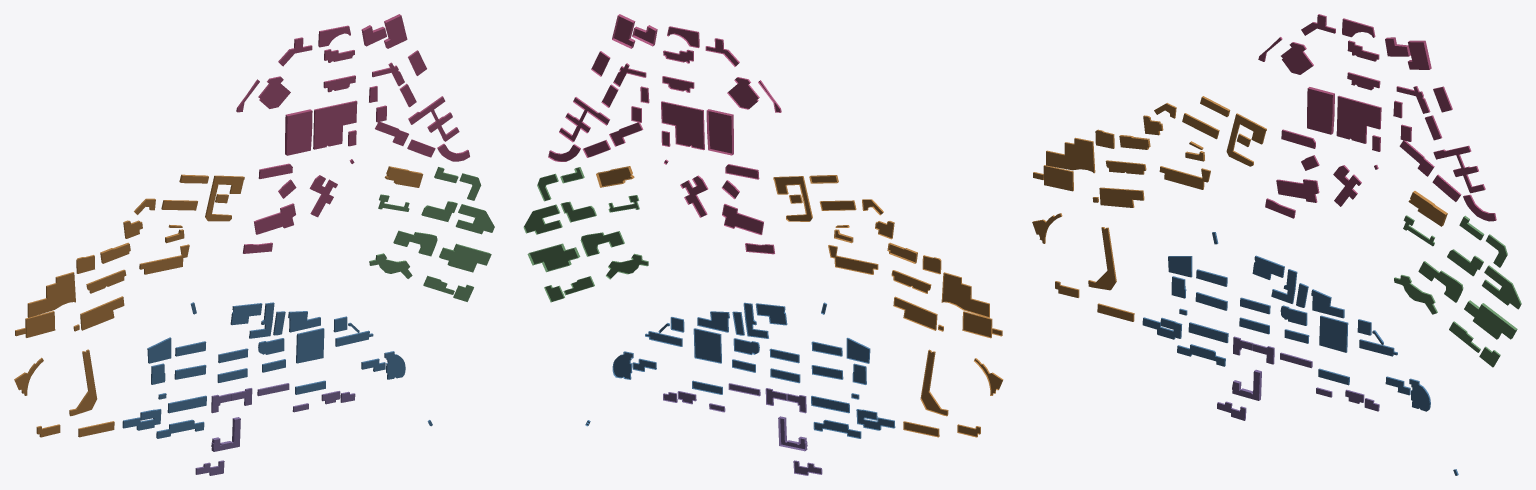
The model's file is buildings_k16.obj.
The picture shows the model from 3 angles, left to right: view 1: azimuth 30°, elevation 25°; view 2: azimuth 150°, elevation 25°; view 3: azimuth 330°, elevation 25°; orthographic projection. The views are drawn at different scales.
Parts seen in each view (by area): view 1: roof1, roof2, roof4, roof3, zone1, zone2, roof5, zone4, zone3, zone5; view 2: roof1, roof2, roof4, zone1, roof3, zone2, zone4, zone3, roof5, zone5; view 3: roof1, roof2, roof4, roof3, zone1, zone2, roof5, zone4, zone3, zone5.
Boxes of the visible parts, box(x1,y1,x2,y2) form: roof1: box(237, 15, 469, 253); roof2: box(15, 167, 423, 437); roof4: box(123, 303, 432, 438); roof3: box(370, 168, 494, 301); zone1: box(236, 14, 468, 253); zone2: box(14, 166, 422, 436); roof5: box(196, 384, 355, 475); zone4: box(122, 302, 430, 438); zone3: box(369, 167, 490, 297); zone5: box(195, 383, 354, 475); roof1: box(549, 16, 780, 253); roof2: box(598, 167, 1002, 436); roof4: box(586, 303, 893, 437); zone1: box(548, 14, 781, 254); roof3: box(524, 168, 647, 301); zone2: box(596, 166, 1003, 437); zone4: box(585, 302, 895, 438); zone3: box(523, 167, 648, 302); roof5: box(664, 384, 821, 474); zone5: box(663, 383, 822, 475); roof1: box(1258, 15, 1495, 221); roof2: box(1032, 97, 1445, 321); roof4: box(1142, 232, 1457, 475); roof3: box(1394, 216, 1520, 367); zone1: box(1264, 14, 1496, 220); zone2: box(1033, 96, 1447, 321); roof5: box(1217, 337, 1378, 420); zone4: box(1143, 232, 1458, 474); zone3: box(1394, 215, 1521, 366); zone5: box(1217, 336, 1379, 420).
Size of the model in its own units: 1114 by 935 by 8.5.
